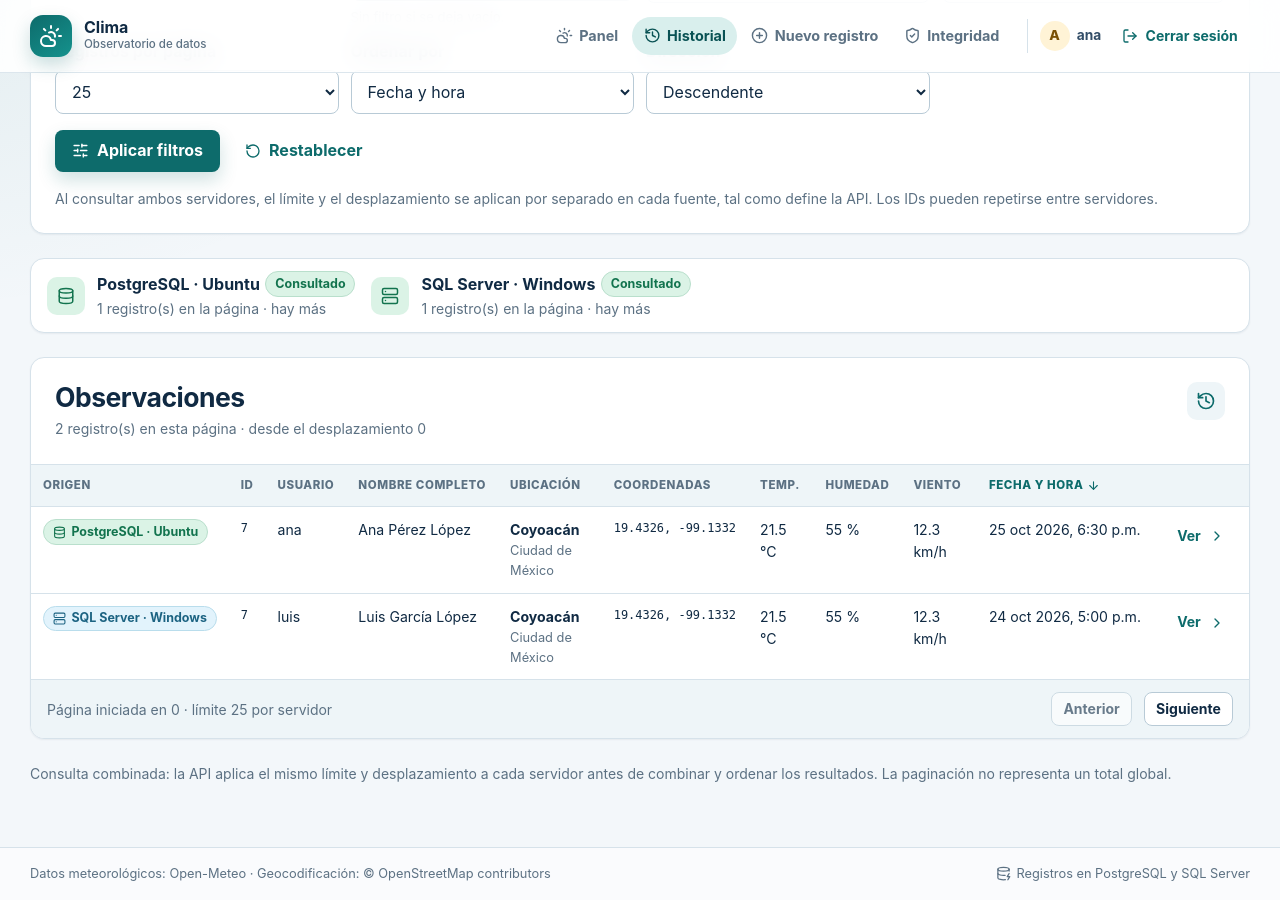
Test: historial de registros › pagina con el desplazamiento por fuente
(page scrolled)
expect the cell "ana" is shown: met, box x1=266 y1=507 x2=346 y2=593
Click the button "Siguiente" at [1188, 709], box x1=1144 y1=692 x2=1233 y2=726
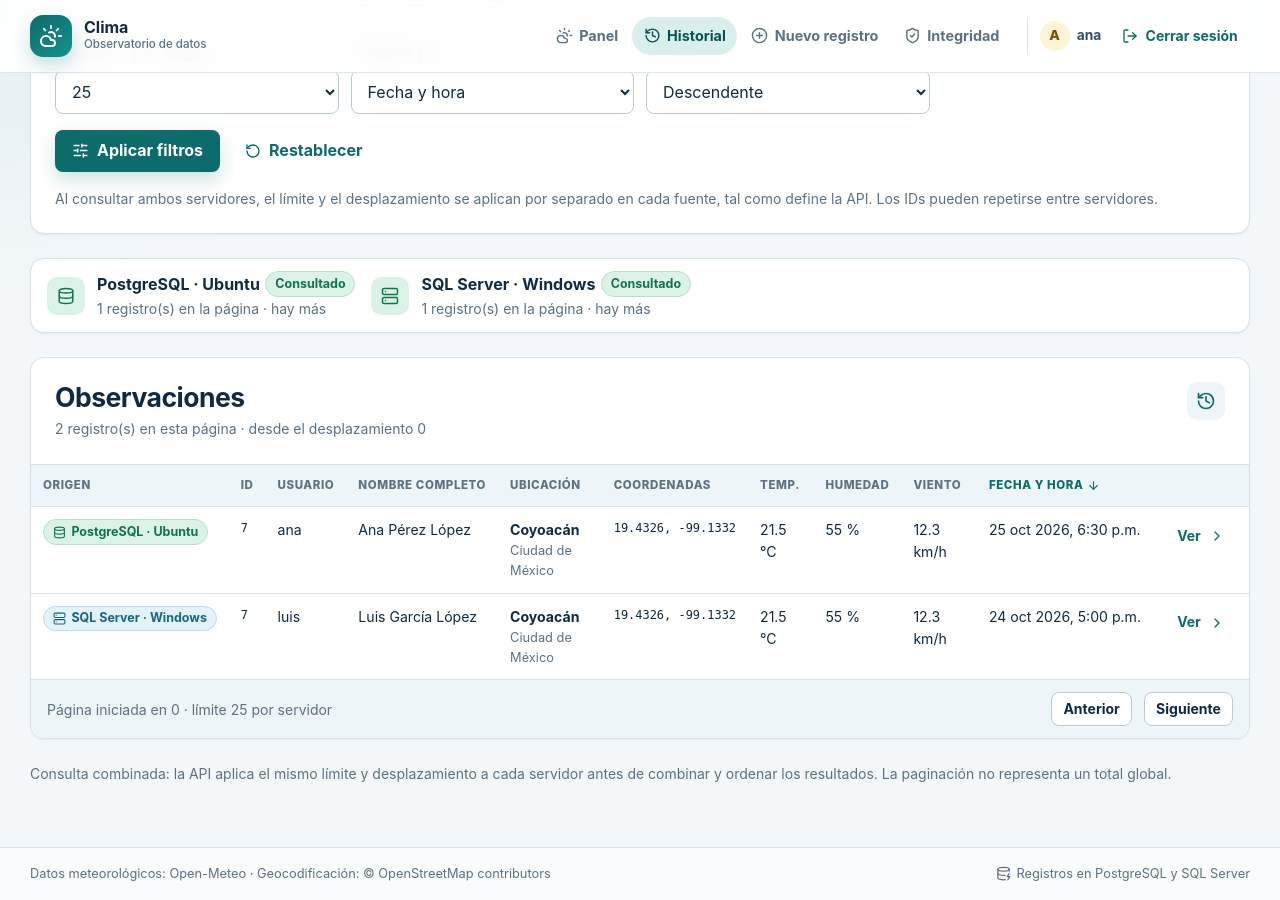
expect the button "Anterior" is enabled: met, box x1=1051 y1=692 x2=1132 y2=726
